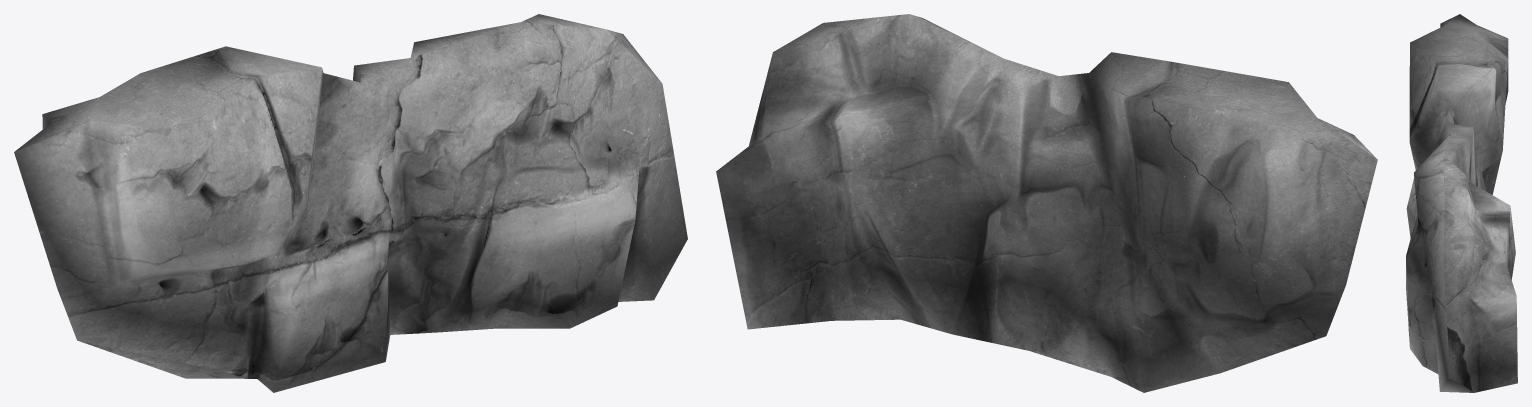
Rendered from ROCK_9.FBX.
The picture shows the model from 3 angles, left to right: view 1: azimuth 30°, elevation 25°; view 2: azimuth 150°, elevation 25°; view 3: azimuth 270°, elevation 25°; orthographic projection. The views are drawn at different scales.
Visible parts, largest first — view 1: 09; view 2: 09; view 3: 09.
Part boxes in pixels (<box>): 09: <box>14,14,687,392</box>; 09: <box>716,14,1377,392</box>; 09: <box>1406,14,1517,392</box>.
Size of the model in its own units: 1314 by 606 by 300.
1 material, 1 textured.
